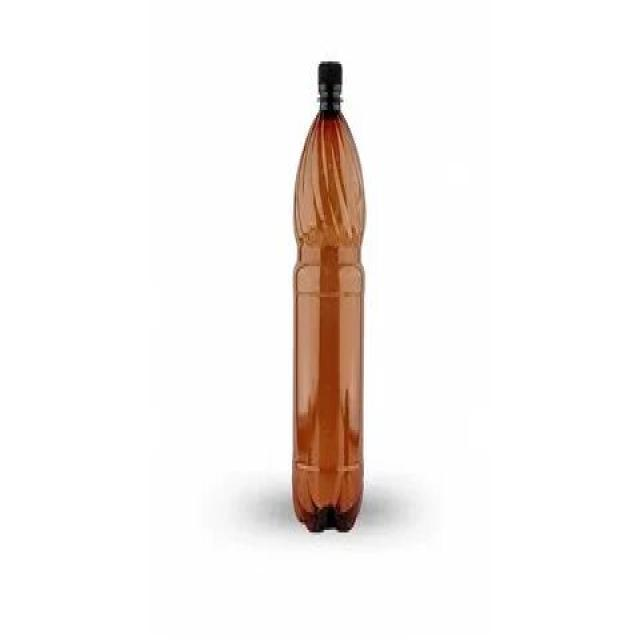brown: (293, 94, 367, 533)
